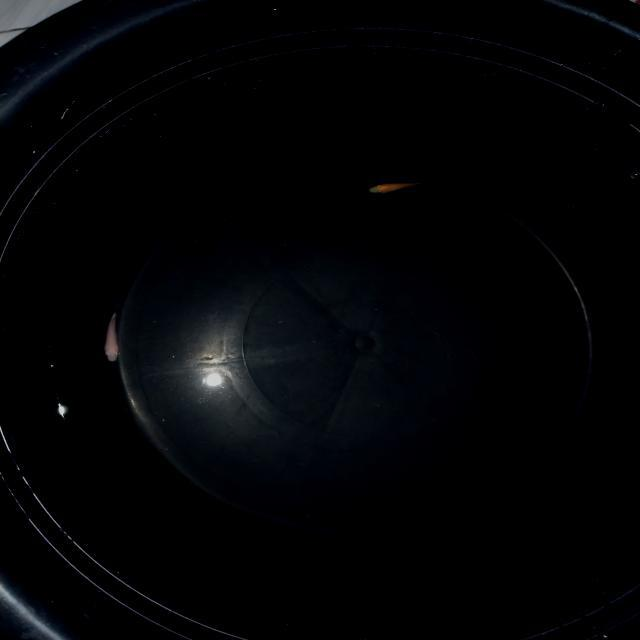nila: (361, 170, 438, 200), (99, 304, 124, 367)
